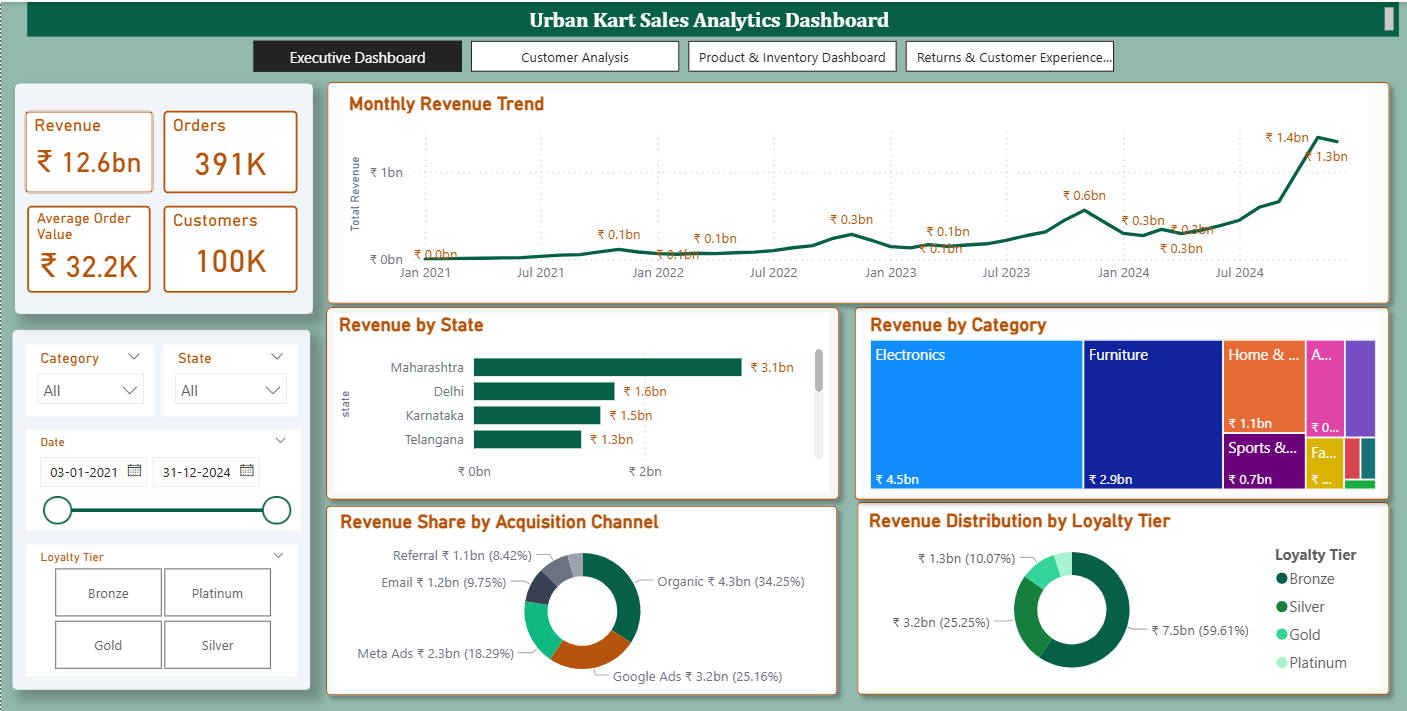

The page's visual inventory and layout, read from the dashboard file:
{"tool":"powerbi","page":{"name":"Executive Dashboard","canvas":[1280,720],"ordinal":0},"visuals":[{"type":"shape","title":"Navigation & KPI","box":[10,295,269,325],"z":0},{"type":"shape","title":"Navigation & KPI","box":[12,73,269,208],"z":1000},{"type":"shape","box":[763,442,498,192],"z":2000},{"type":"shape","box":[284,445,479,189],"z":3000},{"type":"shape","box":[761,266,500,192],"z":4000},{"type":"shape","box":[285,63,976,218],"z":5000},{"type":"shape","box":[284,266,481,192],"z":6000},{"type":"card","title":"Revenue","fields":{"Values":["orders.Total Revenue"]},"box":[21,98,116,74],"z":7000},{"type":"textbox","box":[24,0,1237,31],"z":8000},{"type":"lineChart","title":"Monthly Revenue Trend","fields":{"Y":["orders.Total Revenue"],"Category":["Date.Date.Variation.Date Hierarchy.Year","Date.Date.Variation.Date Hierarchy.Month"]},"box":[309,81,923,181],"z":9000},{"type":"treemap","title":"Revenue by Category","fields":{"Group":["categories.category_name"],"Values":["products.Product Revenue"]},"box":[779,281,466,164],"z":10000},{"type":"clusteredBarChart","title":"Revenue by State","fields":{"Category":["customers.state"],"Y":["orders.Total Revenue"]},"box":[300,281,447,161],"z":11000},{"type":"donutChart","title":"Revenue Distribution by Loyalty Tier","fields":{"Category":["customers.loyalty_tier"],"Y":["orders.Total Revenue"]},"box":[778,458,466,162],"z":12000},{"type":"slicer","fields":{"Values":["orders.order_date"]},"box":[22,386,247,90],"z":13000},{"type":"slicer","fields":{"Values":["categories.category_name"]},"box":[22,309,116,65],"z":14000},{"type":"slicer","fields":{"Values":["customers.state"]},"box":[146,309,121,65],"z":15000},{"type":"slicer","fields":{"Values":["customers.loyalty_tier"]},"box":[23,489,245,119],"z":16000},{"type":"donutChart","title":"Revenue Share by Acquisition Channel","fields":{"Y":["orders.Total Revenue"],"Category":["customers.acquisition_channel"]},"box":[301,459,447,162],"z":17000},{"type":"pageNavigator","box":[228,35,777,28],"z":18000},{"type":"card","title":"Orders","fields":{"Values":["orders.Total Orders"]},"box":[147,98,121,74],"z":19000},{"type":"card","title":"Average Order Value","fields":{"Values":["orders.AOV"]},"box":[24,184,111,78],"z":20000},{"type":"card","title":"Customers","fields":{"Values":["customers.Total Customers"]},"box":[147,184,121,78],"z":21000}]}

Visuals, with their boxes on the page's 1280x720 design canvas (x1, y1, x2, y2). These are canvas units, not pixel positions in the 1407x711 screenshot, which may show the page scaled, cropped or inside an application window:
"Navigation & KPI" shape: left=10, top=295, right=279, bottom=620
"Navigation & KPI" shape: left=12, top=73, right=281, bottom=281
shape: left=763, top=442, right=1261, bottom=634
shape: left=284, top=445, right=763, bottom=634
shape: left=761, top=266, right=1261, bottom=458
shape: left=285, top=63, right=1261, bottom=281
shape: left=284, top=266, right=765, bottom=458
"Revenue" card: left=21, top=98, right=137, bottom=172
textbox: left=24, top=0, right=1261, bottom=31
"Monthly Revenue Trend" lineChart: left=309, top=81, right=1232, bottom=262
"Revenue by Category" treemap: left=779, top=281, right=1245, bottom=445
"Revenue by State" clusteredBarChart: left=300, top=281, right=747, bottom=442
"Revenue Distribution by Loyalty Tier" donutChart: left=778, top=458, right=1244, bottom=620
slicer - orders.order_date: left=22, top=386, right=269, bottom=476
slicer - categories.category_name: left=22, top=309, right=138, bottom=374
slicer - customers.state: left=146, top=309, right=267, bottom=374
slicer - customers.loyalty_tier: left=23, top=489, right=268, bottom=608
"Revenue Share by Acquisition Channel" donutChart: left=301, top=459, right=748, bottom=621
pageNavigator: left=228, top=35, right=1005, bottom=63
"Orders" card: left=147, top=98, right=268, bottom=172
"Average Order Value" card: left=24, top=184, right=135, bottom=262
"Customers" card: left=147, top=184, right=268, bottom=262
